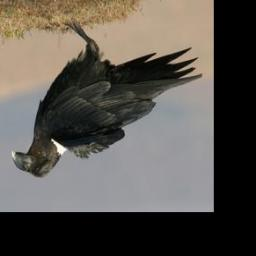Crow: (9, 16, 204, 181)
